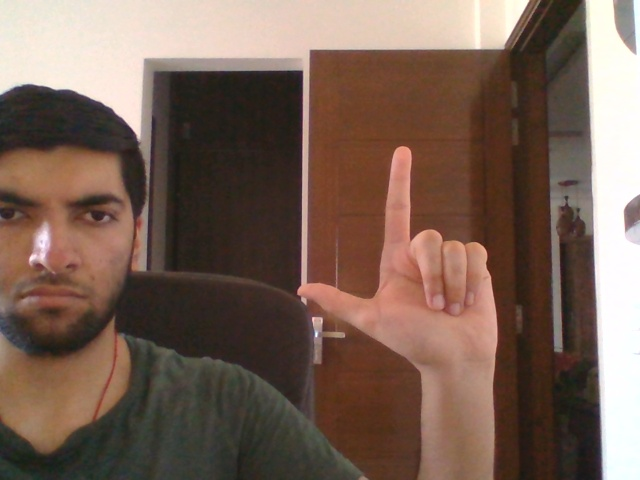LetterL: (296, 145, 498, 371)
